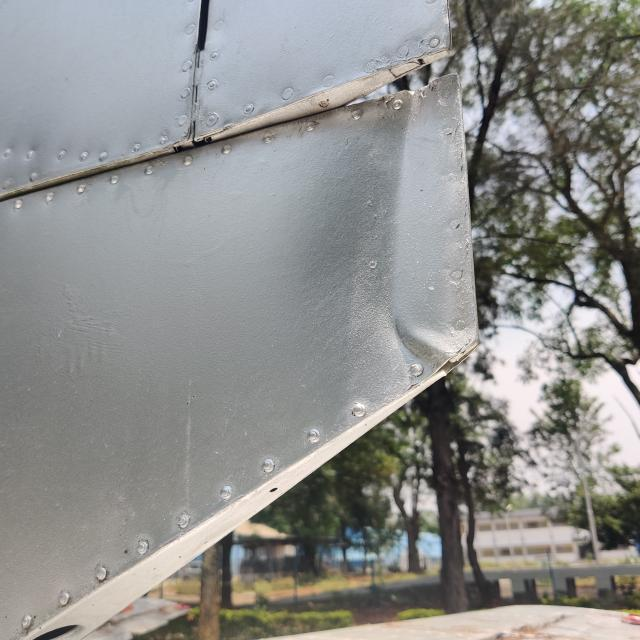Dent: (394, 289, 479, 386)
